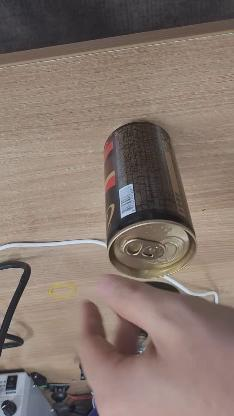Can: (99, 120, 192, 276)
